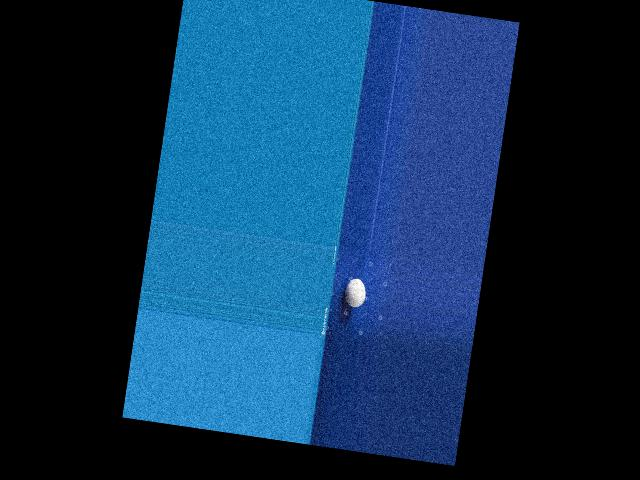egg: (343, 276, 367, 308)
